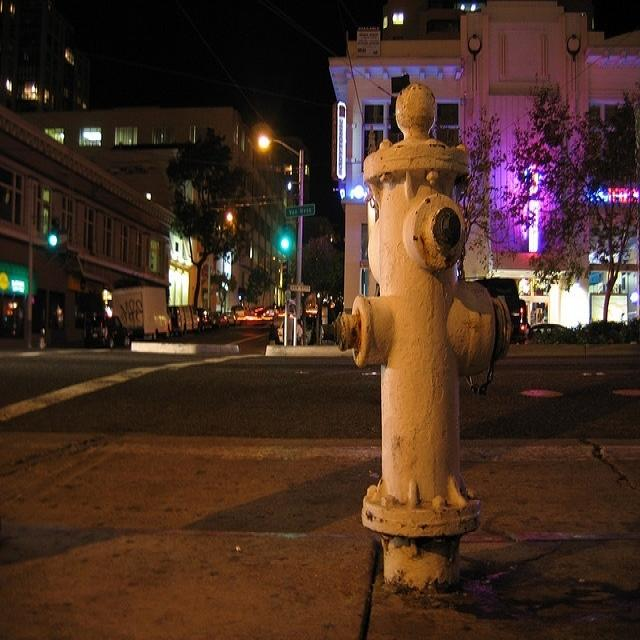fire_hydrant: (314, 69, 594, 640)
